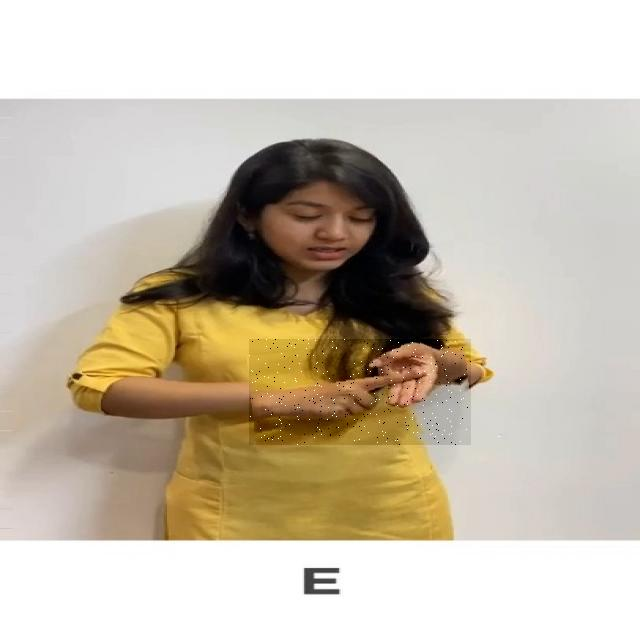E: (249, 339, 471, 445)
